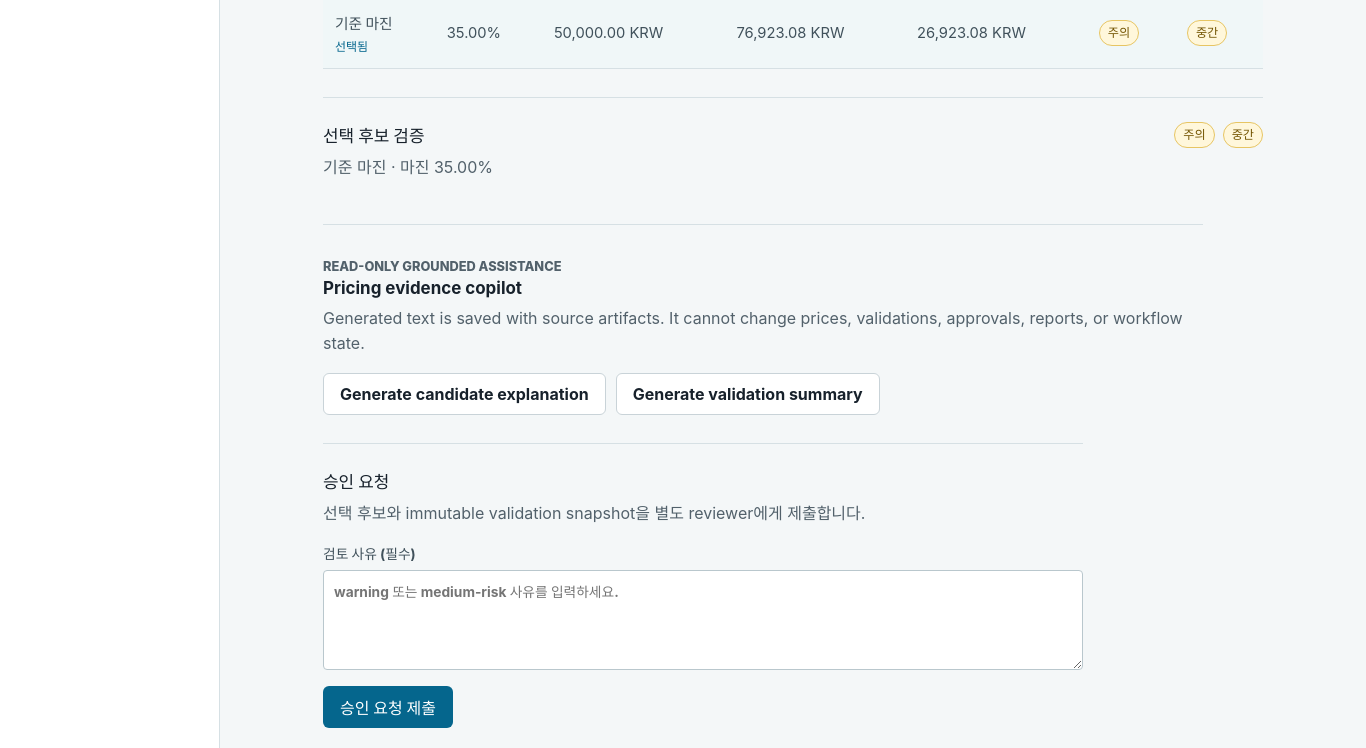
Test case: V2-06B approval inbox › submits a warning pricing check with explicit reason and opens its approval detail
(page scrolled)
Expected: the button "승인 요청 제출" is shown, 323,686 -> 453,728
Step 1. Type "현장 서비스 범위를 반영한 검토가 필요합니다." into the text box labelled "검토 사유 (필수)" → (703, 620), box 323,570 -> 1083,670
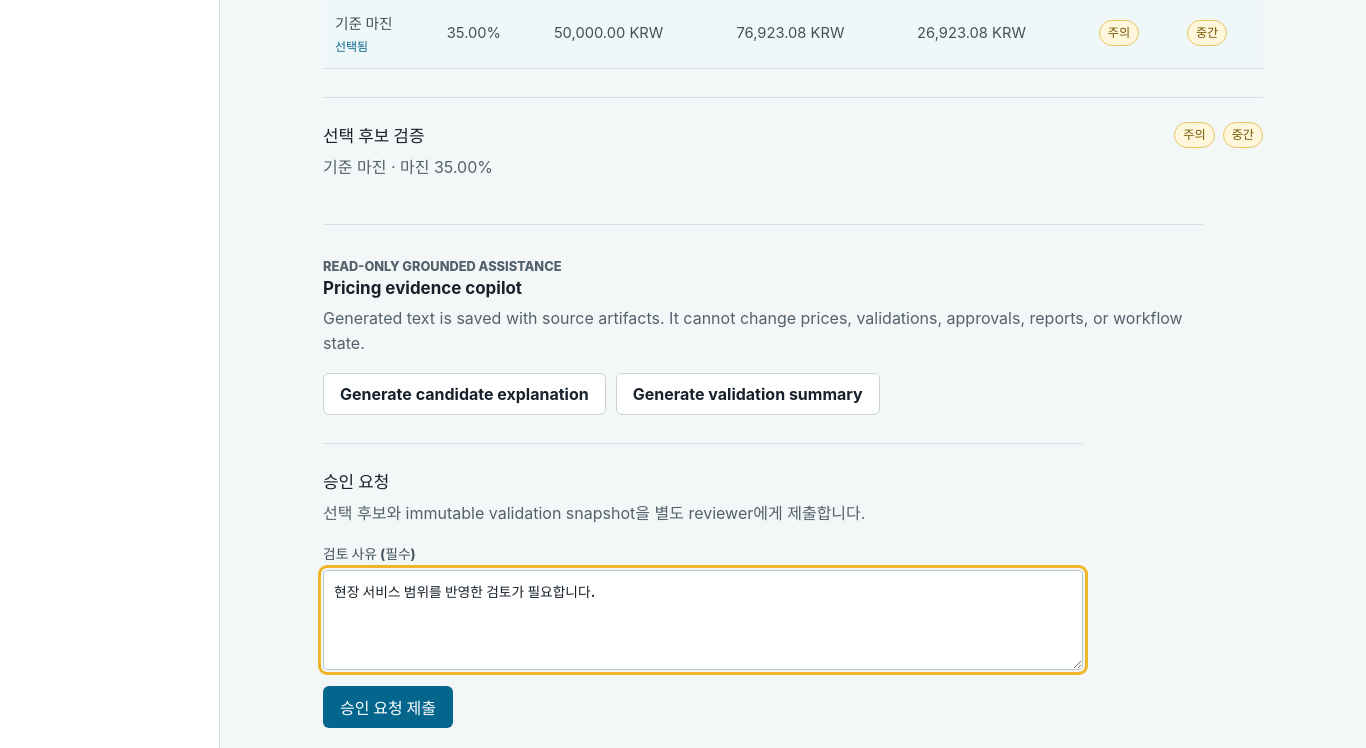
Step 2. Click the button "승인 요청 제출" → click(388, 707), box 323,686 -> 453,728
(page scrolled)
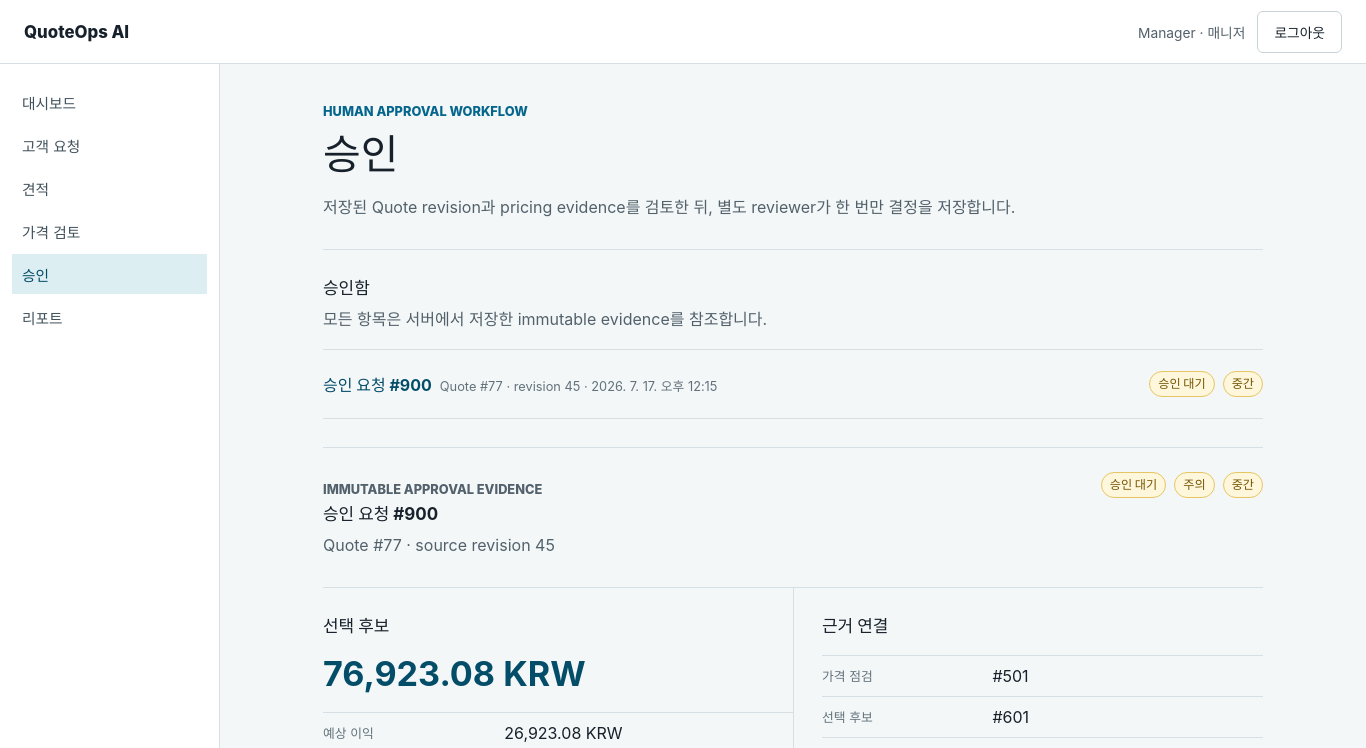
Now the heading "승인 요청 #900" is shown, box 323,504 -> 438,524
